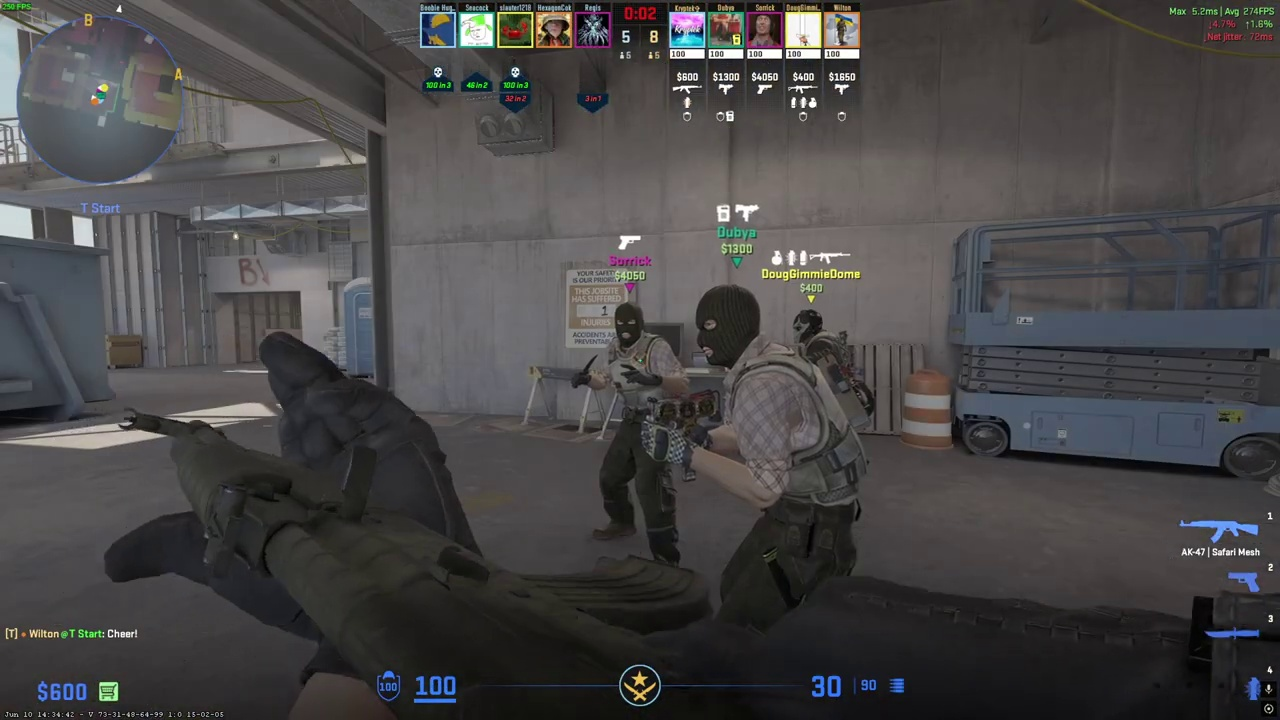Terrorist: (693, 284, 867, 641), (585, 302, 684, 567), (793, 308, 853, 390)
